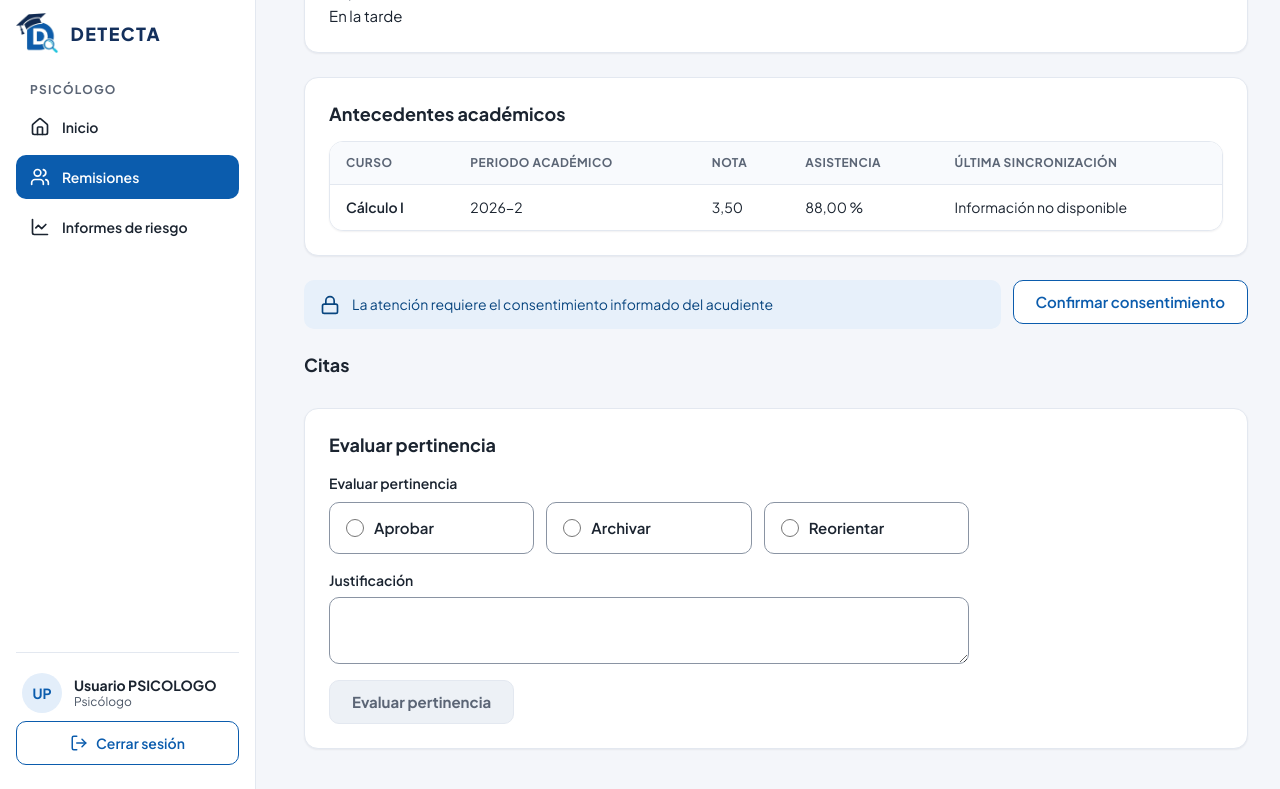
Aprobación de pertinencia sin recargar (F5b, defecto 1) › al aprobar aparece «Programar primera cita» sin volver a montar la vista
(page scrolled)
Click the radio button labelled "Aprobar" at {"x": 355, "y": 528}, box [346,519,364,537]
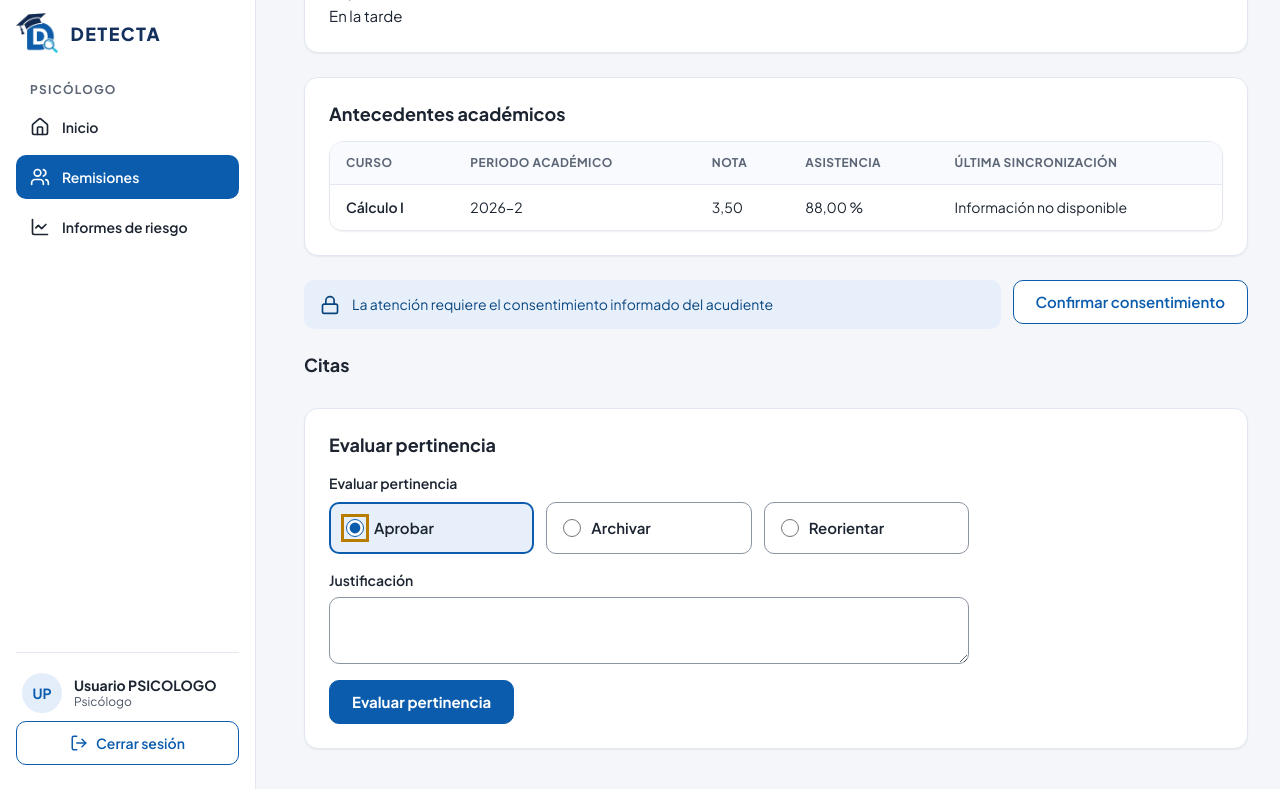
Type "Dictamen aprobado" into the text box labelled "Justificación" at {"x": 649, "y": 630}, box [329,597,969,664]
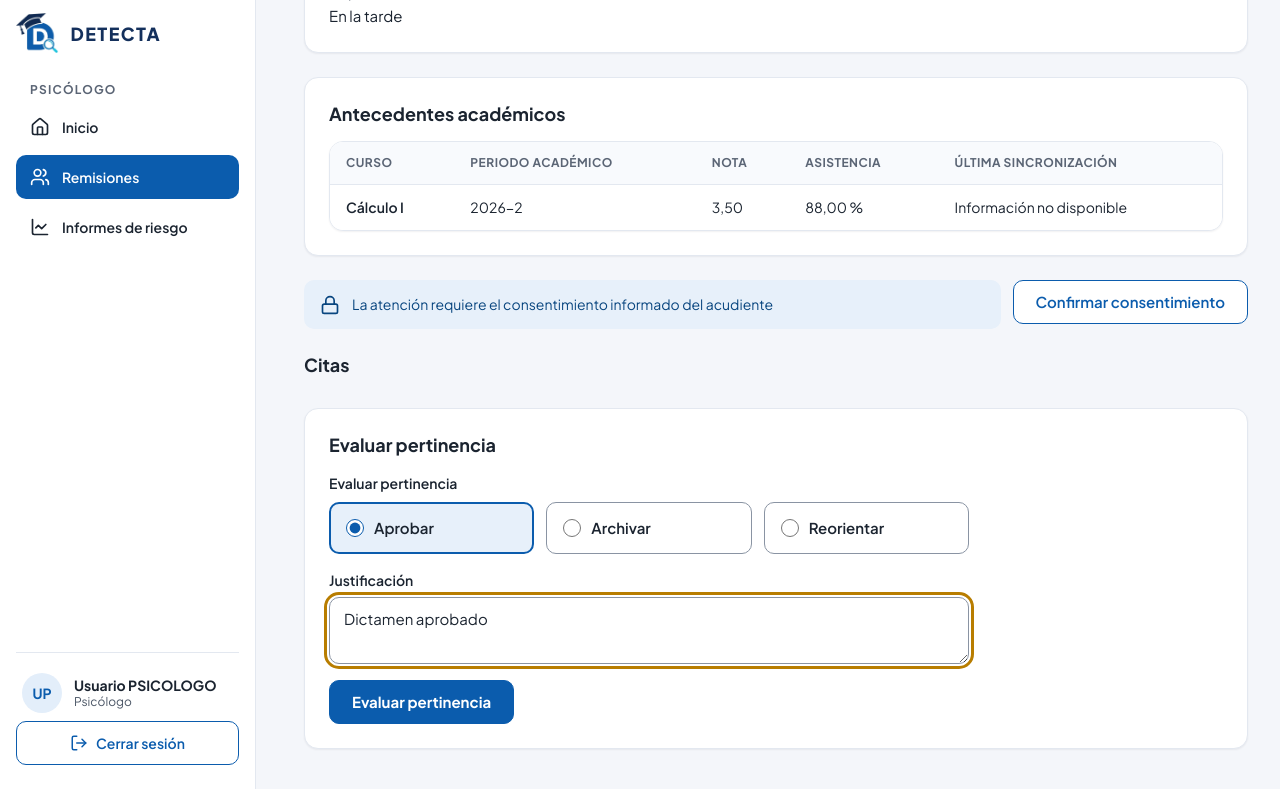
Click the button "Evaluar pertinencia" at {"x": 422, "y": 702}, box [329,680,514,724]
(page scrolled)
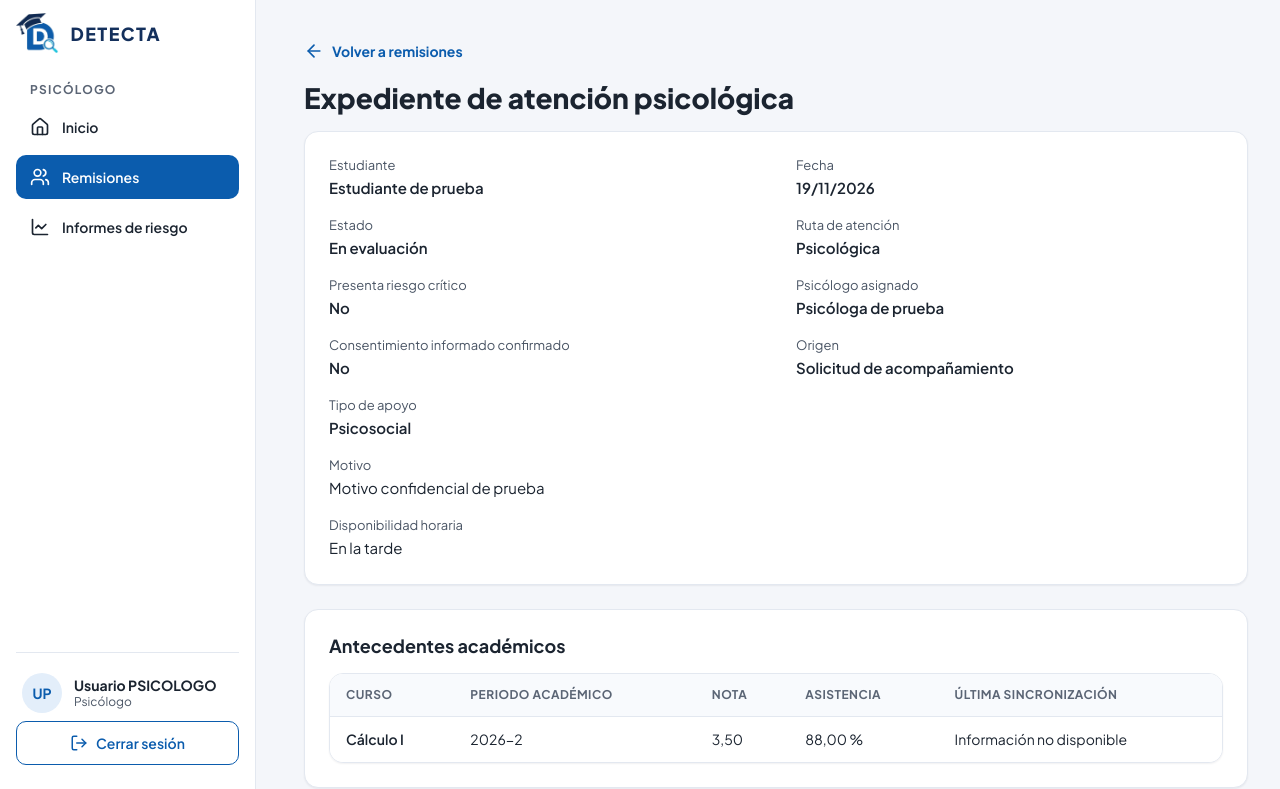
Expected: the text "En evaluación" is shown, [329,238,428,257]
